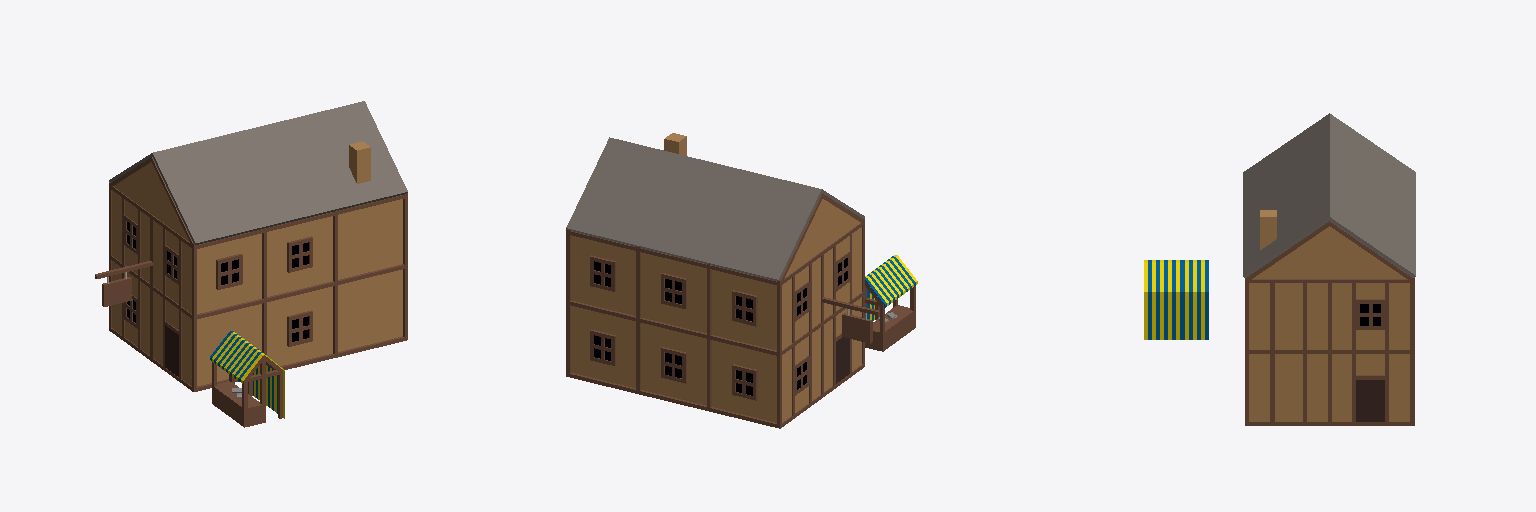
File: timberframedclothier_yellow_blue.obj
3 views of the same model, side by side, from view 1: azimuth 30°, elevation 25°; view 2: azimuth 150°, elevation 25°; view 3: azimuth 270°, elevation 25° (orthographic).
Visible parts, largest first — view 1: Cube.005, Cube.007_Cube.011, Cube.011_Cube.015, Cube.018_Cube.016, Cube.056_Cube.081, Cube.001_Cube.058, Cube.013_Cube.080, Cube.006_Cube.010, Cube.055_Cube.059, Cube.026_Cube.019, Cube.073_Cube.078, Cube.012_Cube.017 (+5 smaller); view 2: Cube.005, Cube.007_Cube.011, Cube.023_Cube.026, Cube.022_Cube.025, Cube.021_Cube.024, Cube.015_Cube.020, Cube.019_Cube.022, Cube.017_Cube.021, Cube.014_Cube.018, Cube.008, Cube.020_Cube.023, Cube.073_Cube.078 (+6 smaller); view 3: Cube.005, Cube.007_Cube.011, Cube.147_Cube.153, Cube.003, Cube.033, Cube.027, Cube.047_Cube.049, Cube.031, Cube.016_Cube.013, Cube.006_Cube.010, Cube.012_Cube.017, Cube.035 (+4 smaller).
Part boxes in pixels (x1,y1,x2,y2): Cube.005: (112,162,402,385); Cube.007_Cube.011: (109,101,407,244); Cube.011_Cube.015: (195,264,406,319); Cube.018_Cube.016: (195,195,406,249); Cube.056_Cube.081: (216,254,242,289); Cube.001_Cube.058: (287,310,312,346); Cube.013_Cube.080: (287,236,312,272); Cube.006_Cube.010: (349,141,370,183); Cube.055_Cube.059: (197,336,406,391); Cube.026_Cube.019: (192,243,196,391); Cube.073_Cube.078: (102,277,131,306); Cube.012_Cube.017: (403,193,407,339); Cube.005: (571,199,861,422); Cube.007_Cube.011: (566,137,864,280); Cube.023_Cube.026: (567,373,776,427); Cube.022_Cube.025: (567,301,776,355); Cube.021_Cube.024: (570,231,776,284); Cube.015_Cube.020: (732,290,757,326); Cube.019_Cube.022: (661,347,686,383); Cube.017_Cube.021: (590,330,615,365); Cube.014_Cube.018: (661,273,686,308); Cube.008: (590,255,615,291); Cube.020_Cube.023: (732,364,757,400); Cube.073_Cube.078: (842,313,872,343); Cube.005: (1249,226,1409,421); Cube.007_Cube.011: (1243,113,1415,277); Cube.147_Cube.153: (1144,292,1208,339); Cube.003: (1356,380,1384,421); Cube.033: (1356,299,1384,329); Cube.027: (1410,277,1414,425); Cube.047_Cube.049: (1270,279,1274,423); Cube.031: (1249,422,1410,425); Cube.016_Cube.013: (1248,350,1409,353); Cube.006_Cube.010: (1260,210,1276,249); Cube.012_Cube.017: (1245,277,1248,425); Cube.035: (1352,279,1355,423).
Size of the model in its own units: 15.3 by 11.25 by 13.34.